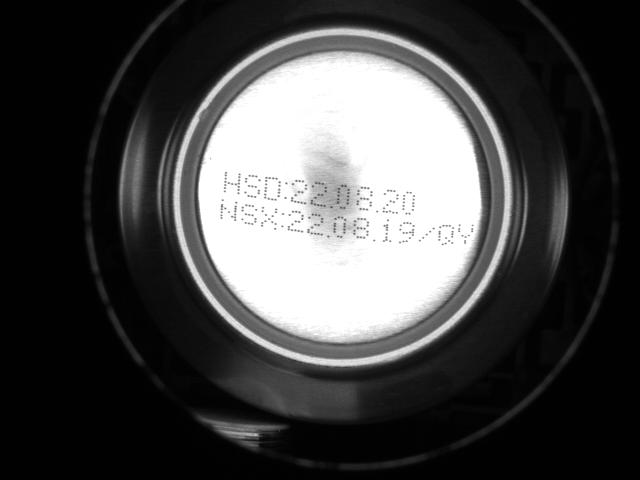.: (328, 194, 336, 211), (324, 223, 332, 240), (373, 197, 381, 214), (370, 226, 378, 243)
/: (418, 225, 435, 244)
0: (336, 182, 352, 211), (332, 212, 348, 241), (400, 187, 416, 216)
1: (381, 217, 392, 243)
2: (288, 177, 309, 205), (284, 207, 305, 235), (308, 179, 329, 207), (305, 209, 326, 237), (380, 187, 401, 215)
8: (356, 184, 374, 213), (352, 214, 370, 243)
9: (397, 220, 416, 247)
:: (282, 180, 290, 202), (278, 209, 286, 231)
D: (262, 174, 281, 203)
H: (221, 169, 242, 196)
N: (218, 197, 240, 224)
Q: (436, 222, 455, 250)
S: (243, 171, 262, 200), (239, 199, 258, 228)
X: (259, 203, 279, 233)
Y: (457, 221, 476, 247)
